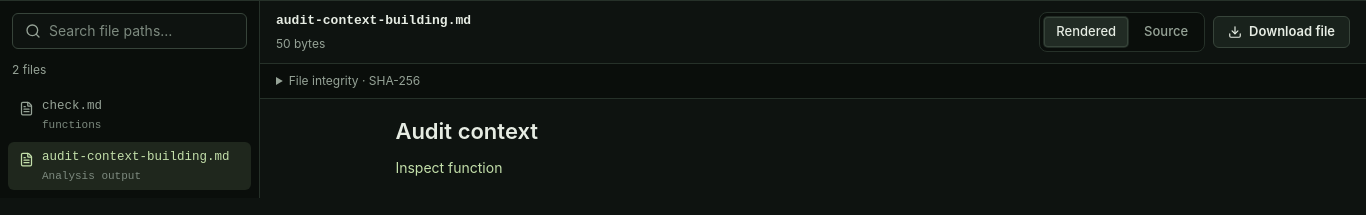
Test: opens the audit entry report and resolves supporting document links inside its artifact revision
This screenshot has width=1366, height=215.
Check: the heading "Audit context" is shown, box [395,118,538,144]
Click the link "Inspect function" at (449, 167), box [395,159,502,176]
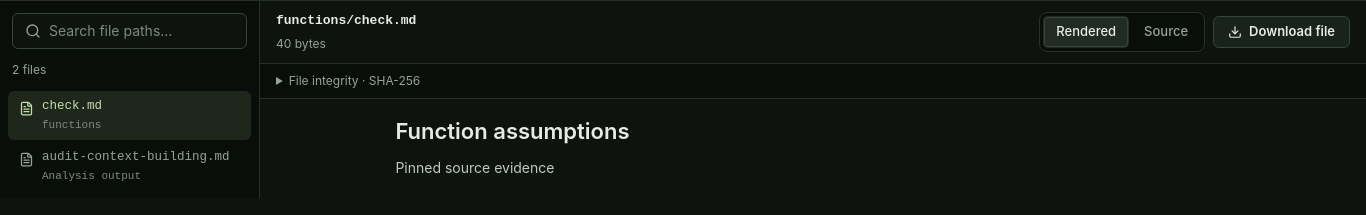
Check: the heading "Function assumptions" is shown, box [395,118,630,144]
Check: the text "Pinned source evidence" is shown, box [395,159,554,176]
